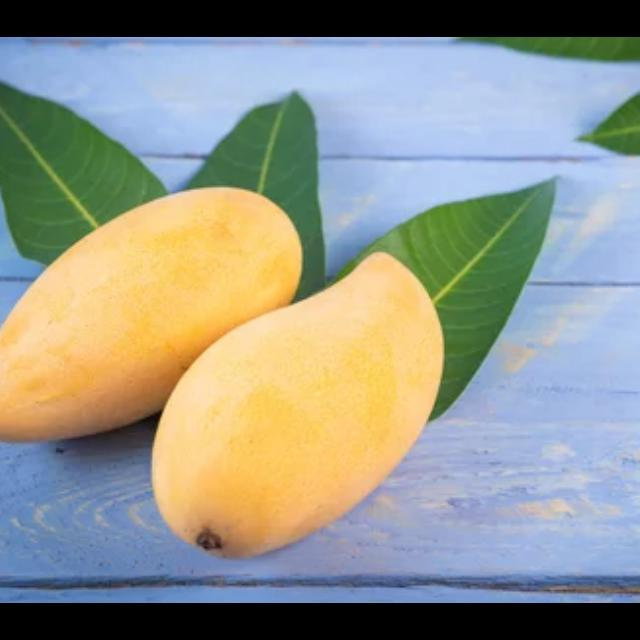mango: (154, 248, 444, 563), (0, 186, 307, 446)
